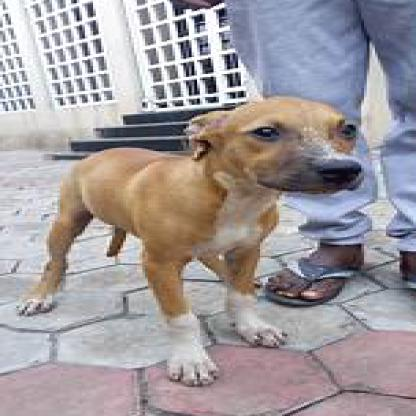dog: (19, 97, 370, 387)
